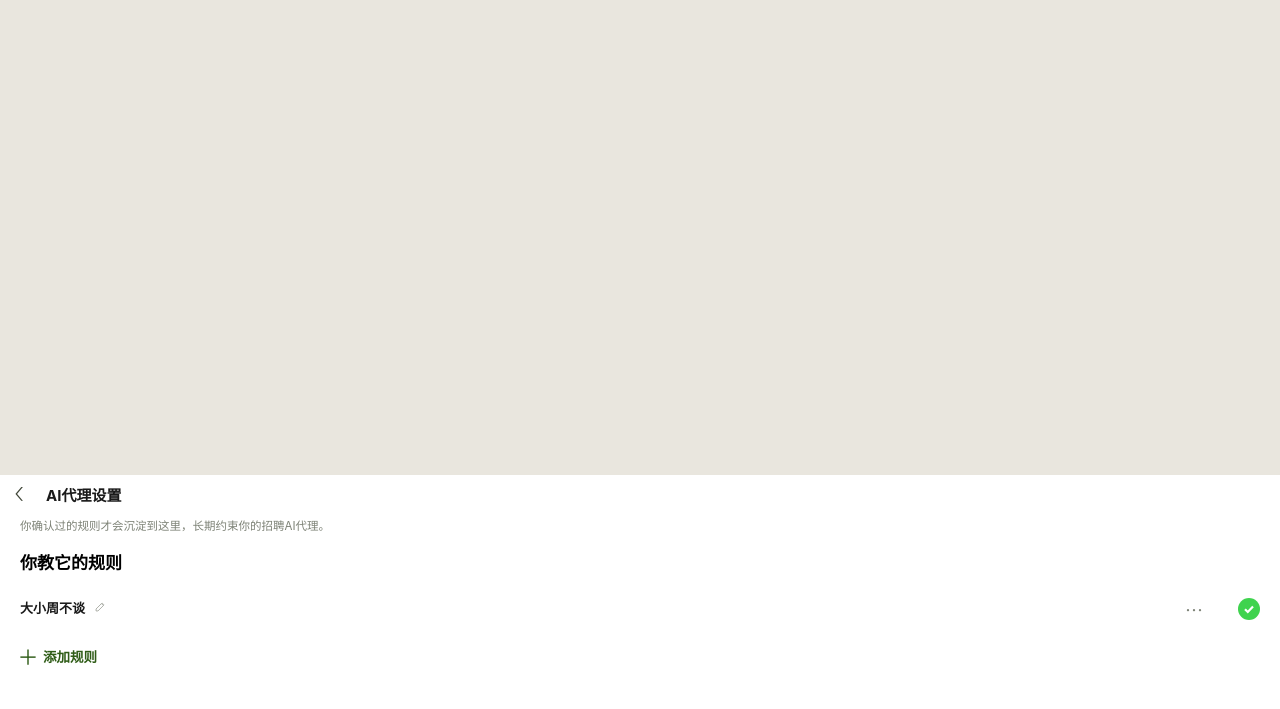
Test case: 企业代理设置 · Backend 招聘方页 › closing a failed card restores the submitted draft text
(page scrolled)
Click the button "＋ 添加规则". click: click(70, 657)
box: [20, 633, 1260, 679]
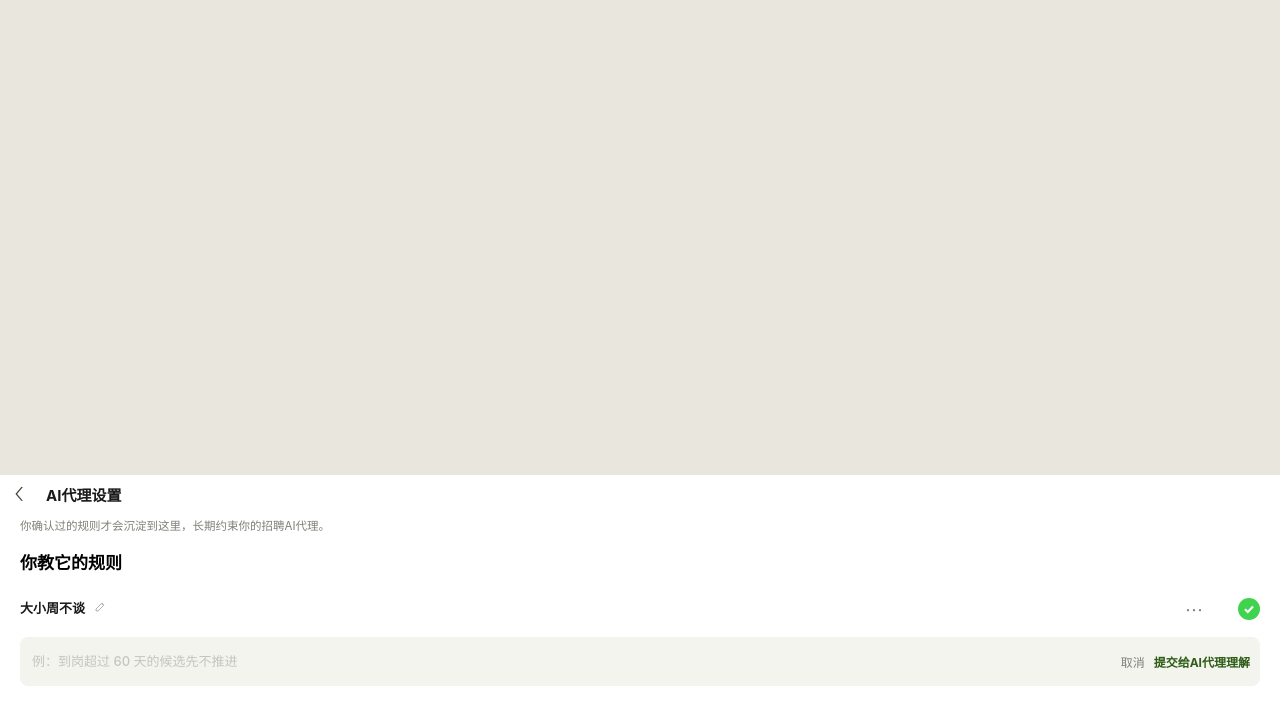
Type "竞对在职候选人不接触" into the field with placeholder "例：到岗超过 60 天的候选先不推进". click: (571, 661)
box: [30, 652, 1112, 670]
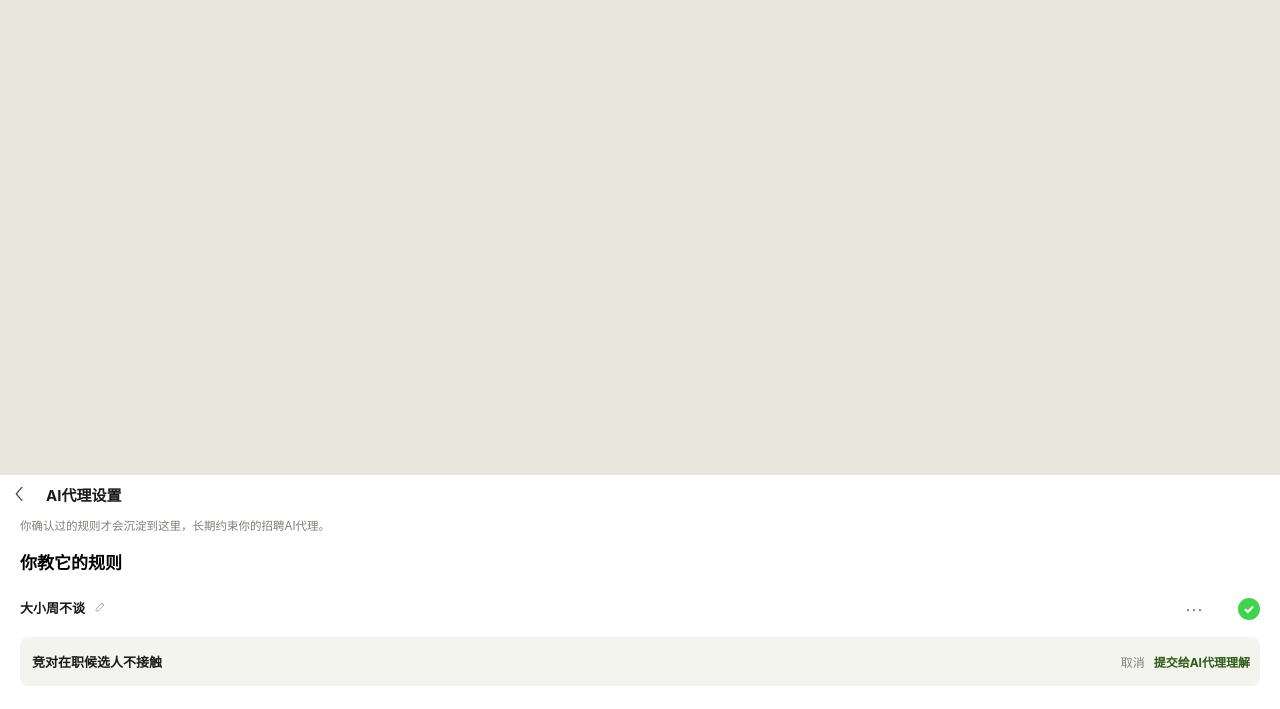
Click the button "提交给AI代理理解". click: click(1202, 661)
box: [1154, 645, 1250, 678]
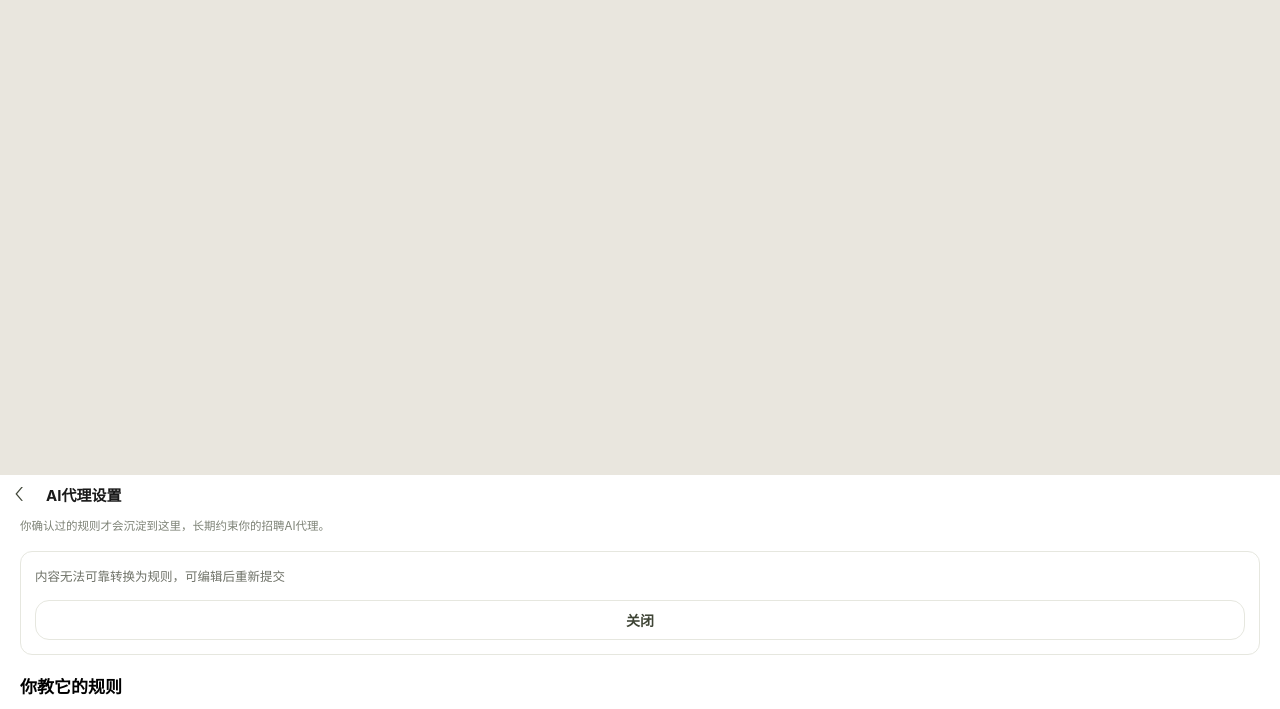
Expected: the field with placeholder "到岗超过" is not shown
Result: the text "内容无法可靠转换为规则，可编辑后重新提交" is shown at [35, 569, 285, 584]
Click the button "关闭". click: click(640, 620)
box: [35, 600, 1245, 640]
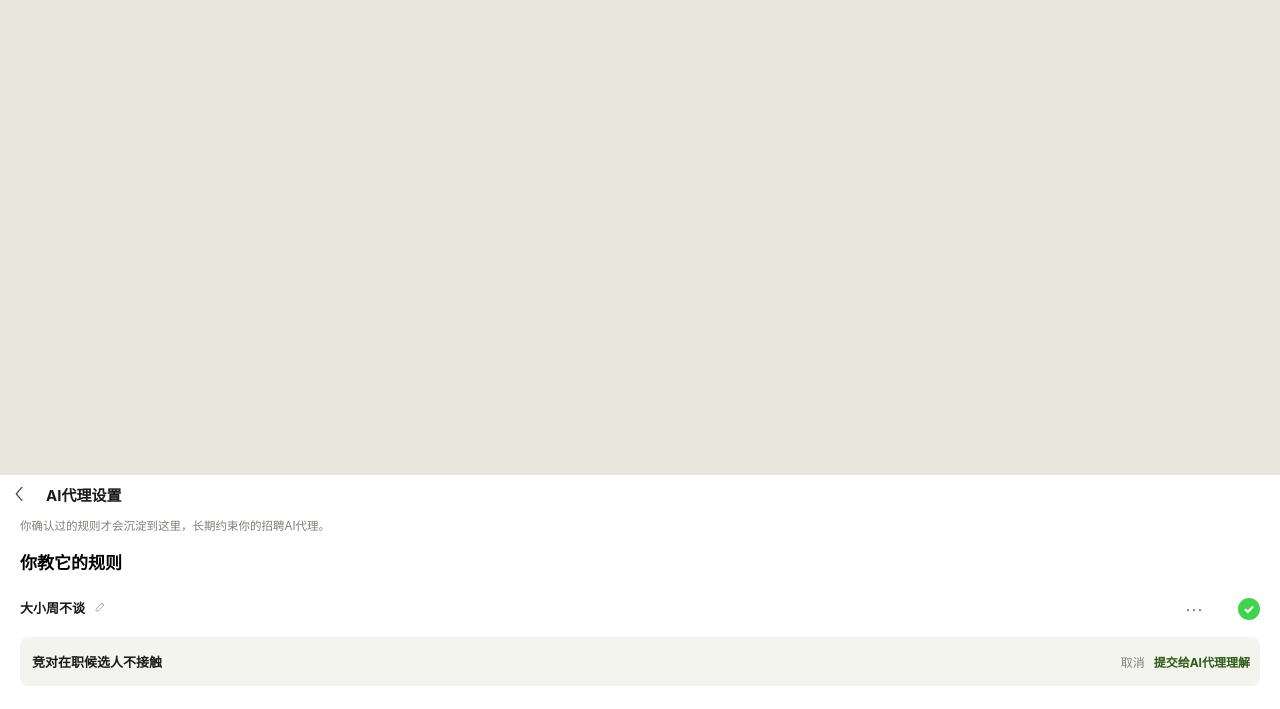
Result: the field with placeholder "例：到岗超过 60 天的候选先不推进" holds "竞对在职候选人不接触" at [30, 652, 1112, 670]
Result: the text "内容无法可靠转换为规则，可编辑后重新提交" is gone
